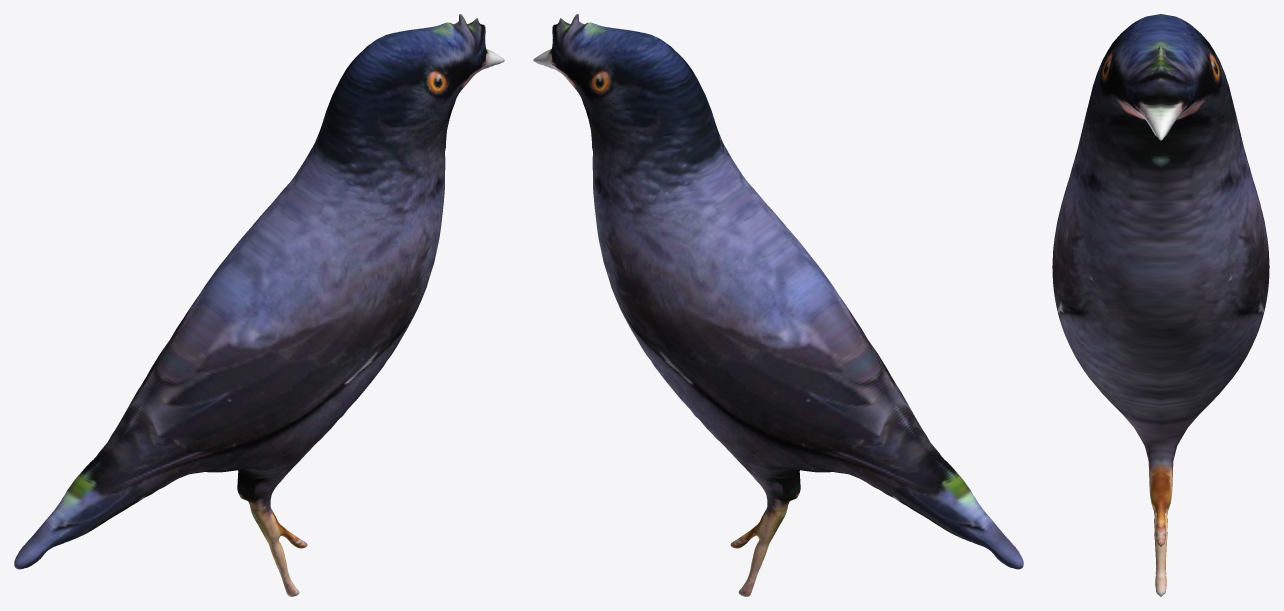
The model's file is Starling c.glb.
The picture shows the model from 3 angles, left to right: view 1: azimuth 30°, elevation 25°; view 2: azimuth 150°, elevation 25°; view 3: azimuth 270°, elevation 25°; orthographic projection. The views are drawn at different scales.
Parts seen in each view (by area): view 1: 32da739c-52aa-4c9b-a81b-c5b394c6b662; view 2: 32da739c-52aa-4c9b-a81b-c5b394c6b662; view 3: 32da739c-52aa-4c9b-a81b-c5b394c6b662.
Boxes of the visible parts, x1,y1,x2,y2 form: 32da739c-52aa-4c9b-a81b-c5b394c6b662: [14, 14, 504, 596]; 32da739c-52aa-4c9b-a81b-c5b394c6b662: [533, 14, 1023, 596]; 32da739c-52aa-4c9b-a81b-c5b394c6b662: [1052, 14, 1269, 596].
Size of the model in its own units: 4.38 by 4.62 by 1.41.
Materials: 1 (1 with a texture image).
